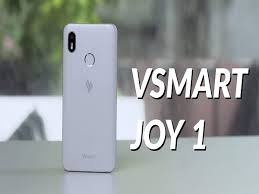vsmart: (58, 20, 118, 173)
